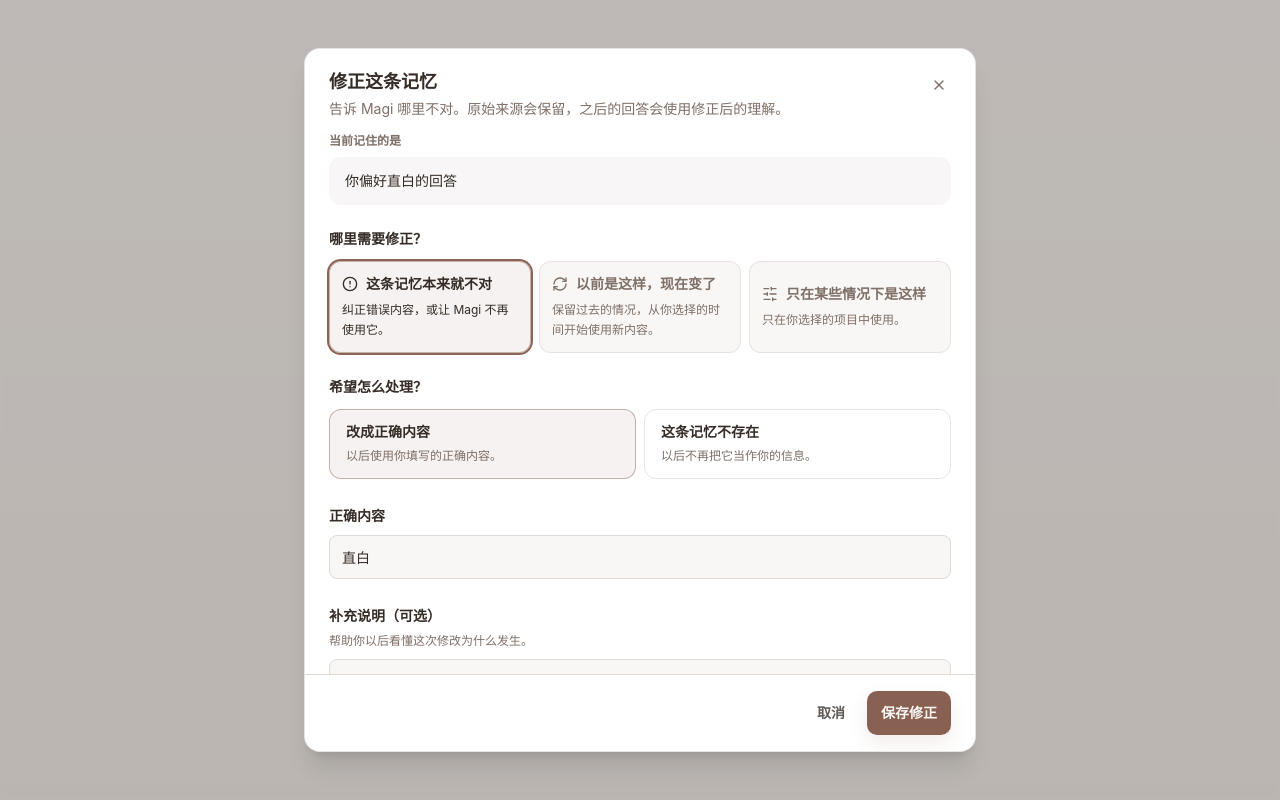
Test: MemoryCorrectionDialog request safety › treats HTTP 404 as a changed target instead of a retryable save failure
Replace the text in the field labelled "正确内容" with "简洁". click: (640, 557)
box: [329, 535, 951, 579]
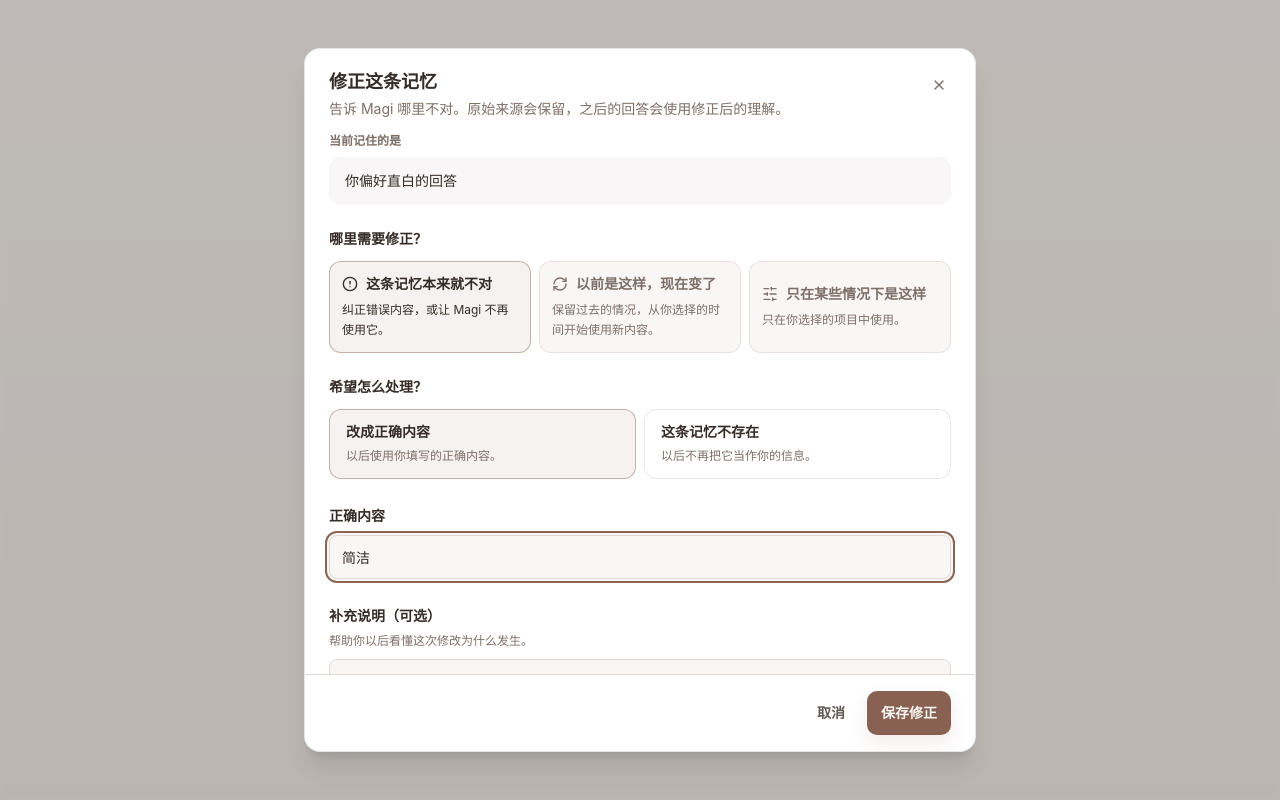
Click the button "保存修正". click: (909, 713)
box: [867, 691, 951, 735]
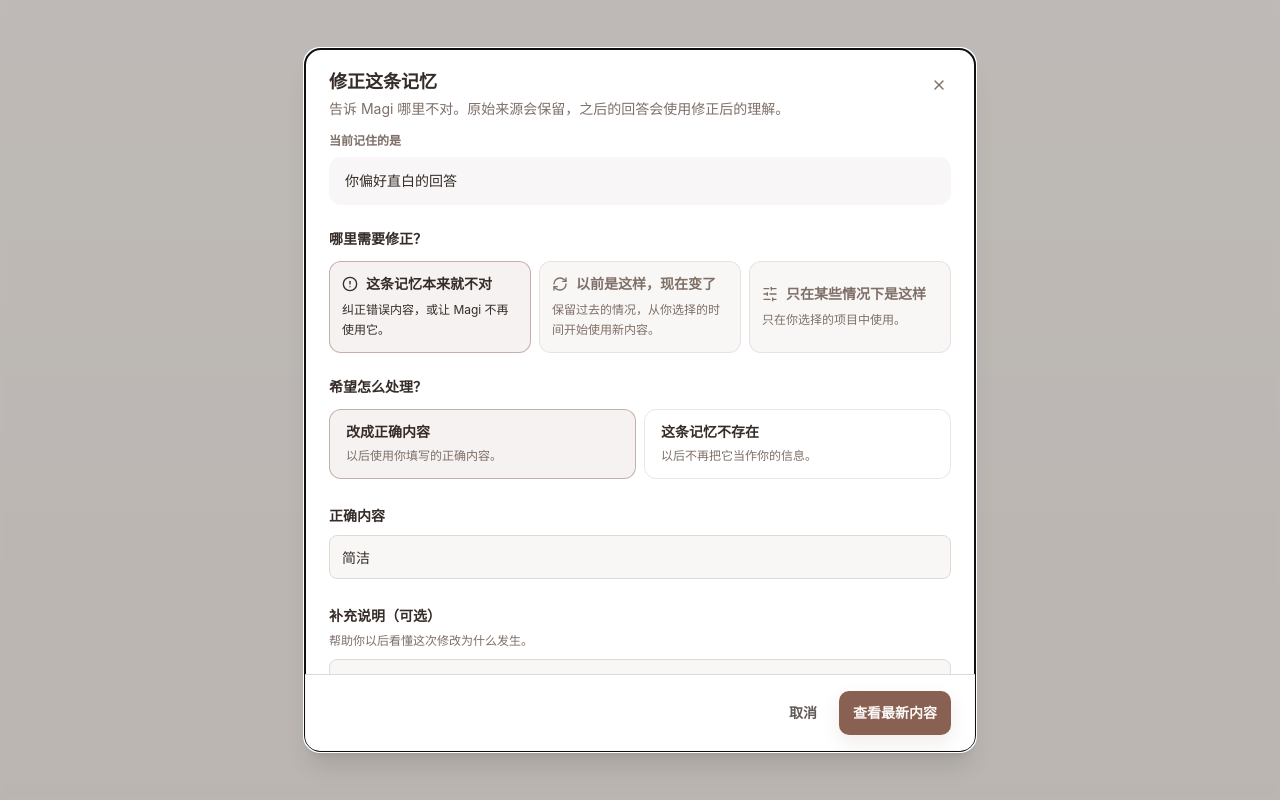
Check: the button "查看最新内容" is shown, box [839, 691, 951, 735]
